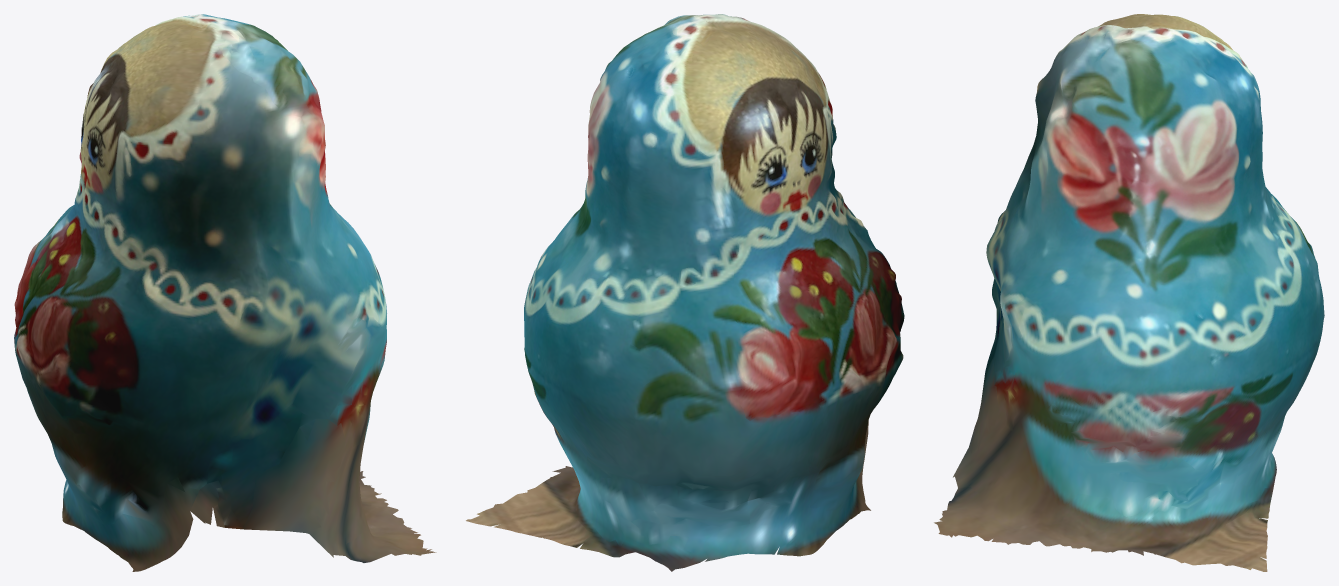
File: russiandoll.glb
3 views of the same model, side by side, from view 1: azimuth 30°, elevation 25°; view 2: azimuth 150°, elevation 25°; view 3: azimuth 270°, elevation 25° (orthographic). The views are drawn at different scales.
Parts seen in each view (by area): view 1: scan_0, scan_1; view 2: scan_0, scan_1; view 3: scan_0, scan_1.
Boxes of the visible parts, x1=… form: scan_0: x1=14, y1=14, x2=436, y2=571; scan_1: x1=16, y1=14, x2=382, y2=533; scan_0: x1=466, y1=14, x2=902, y2=571; scan_1: x1=477, y1=14, x2=904, y2=565; scan_0: x1=934, y1=14, x2=1324, y2=571; scan_1: x1=969, y1=18, x2=1291, y2=569.
Size of the model in its own units: 0.0755 by 0.1016 by 0.0771.
Materials: 2 (2 with a texture image).
